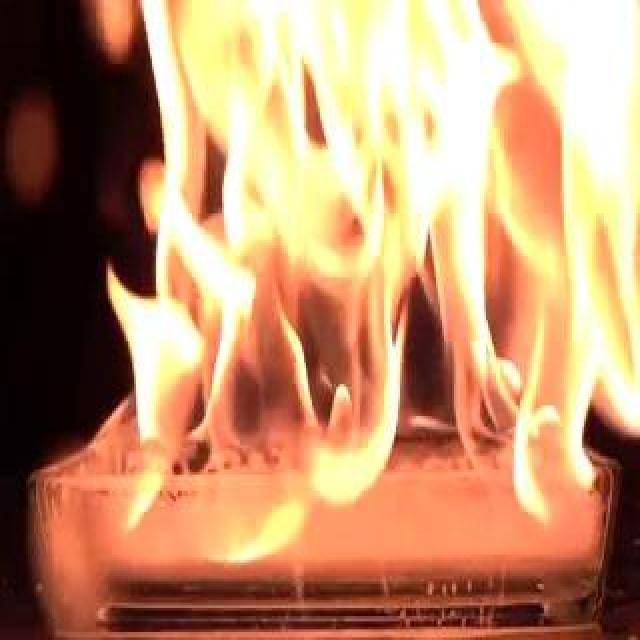Fire: (355, 276, 540, 546)
